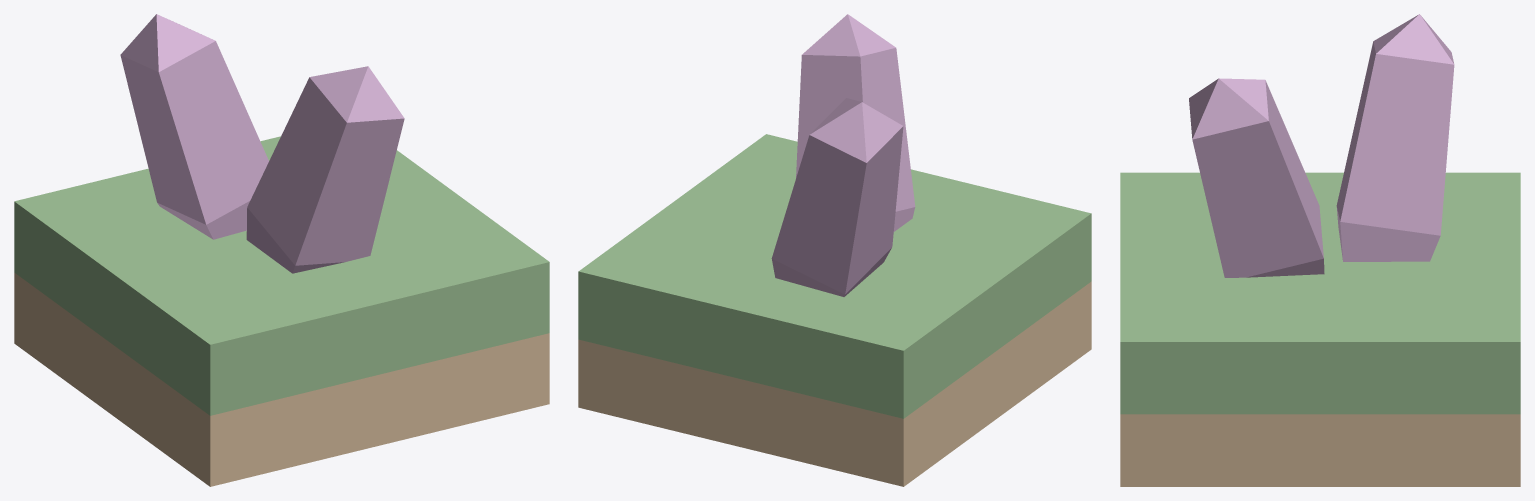
File: tile_076.glb
3 views of the same model, side by side, from view 1: azimuth 30°, elevation 25°; view 2: azimuth 150°, elevation 25°; view 3: azimuth 270°, elevation 25° (orthographic). The views are drawn at different scales.
Visible parts, largest first — view 1: Group_1, Group, Group_2; view 2: Group_1, Group_2, Group; view 3: Group_1, Group_2, Group.
Boxes of the visible parts, x1=… form: Group_1: x1=14, y1=136, x2=549, y2=486; Group: x1=246, y1=66, x2=404, y2=273; Group_2: x1=120, y1=14, x2=268, y2=239; Group_1: x1=578, y1=134, x2=1091, y2=486; Group_2: x1=771, y1=98, x2=903, y2=296; Group: x1=796, y1=14, x2=915, y2=231; Group_1: x1=1120, y1=172, x2=1520, y2=486; Group_2: x1=1336, y1=14, x2=1454, y2=261; Group: x1=1189, y1=78, x2=1324, y2=277.
Bounding box in the file's own units: 1 × 0.9653 × 1.
